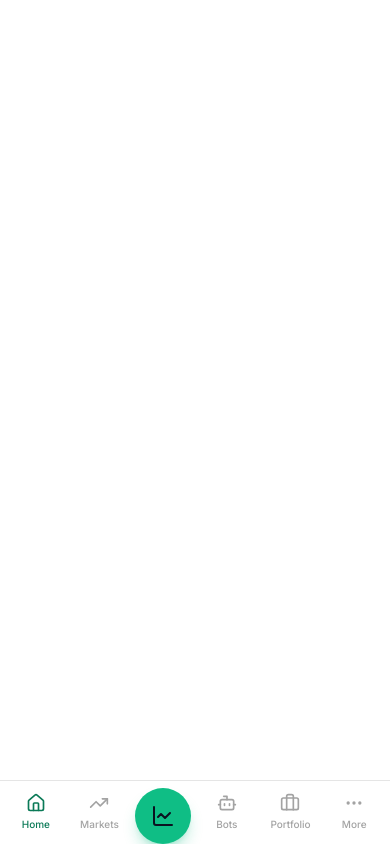
BottomNav › opens a sheet exposing History, Transactions, and Account when "More" is tapped
Click the button "More" at (354, 812), box 322,789 -> 386,836
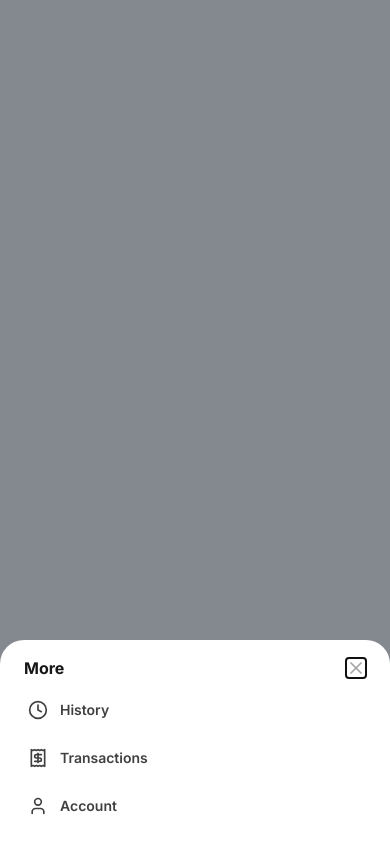
expect the dialog "More History Transactions Account" is shown: met
